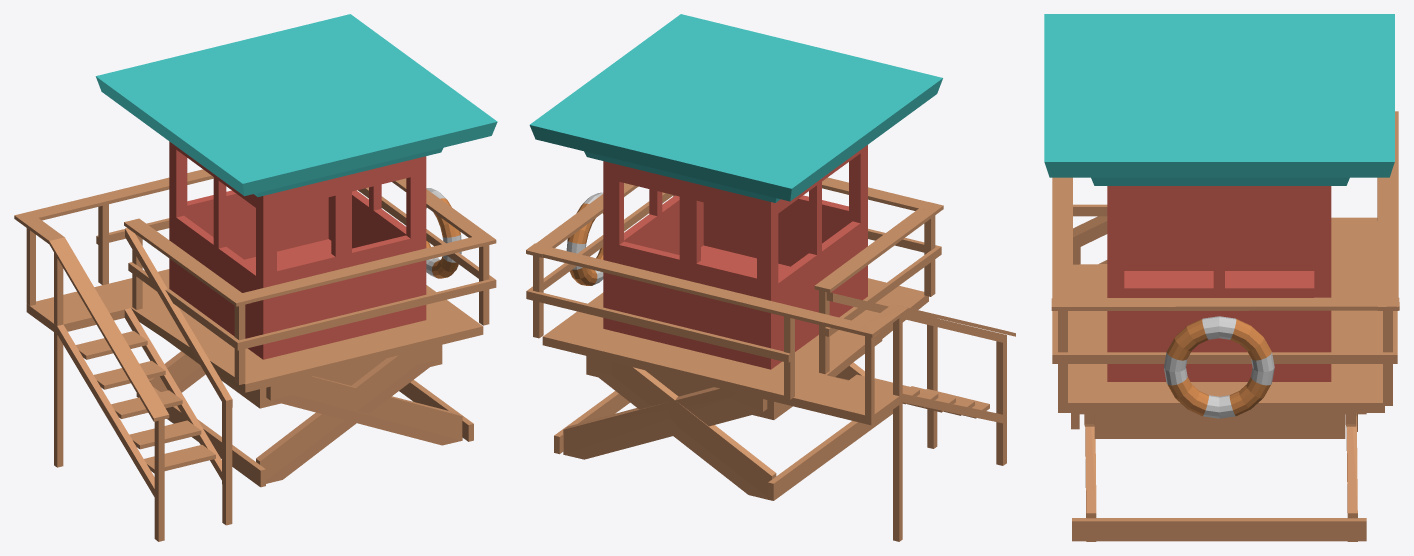
The model's file is BeachHouse.fbx.
3 renders of one model, left to right at view 1: azimuth 30°, elevation 25°; view 2: azimuth 150°, elevation 25°; view 3: azimuth 270°, elevation 25°, orthographic. The views are drawn at different scales.
Parts seen in each view (by area): view 1: CABIN; view 2: CABIN; view 3: CABIN.
Boxes of the visible parts, box(x1,y1,x2,y2) form: CABIN: box(14, 14, 497, 541); CABIN: box(526, 14, 1015, 541); CABIN: box(1044, 14, 1399, 541).
Size of the model in its own units: 109 by 103 by 80.02.
